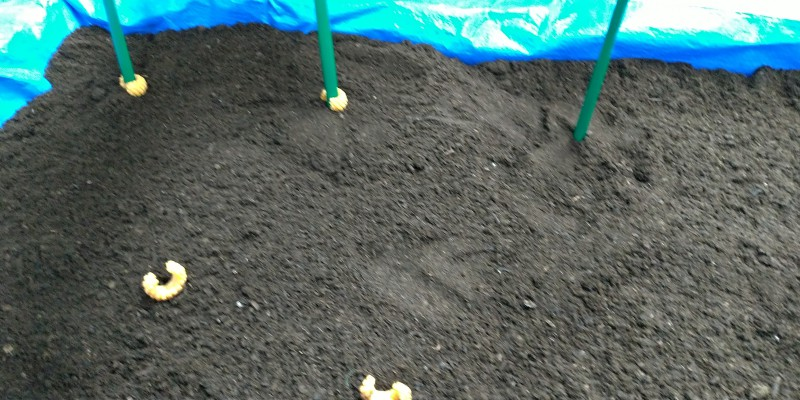eggs: (137, 259, 190, 302), (353, 374, 415, 400), (114, 67, 151, 101), (316, 81, 353, 115)
